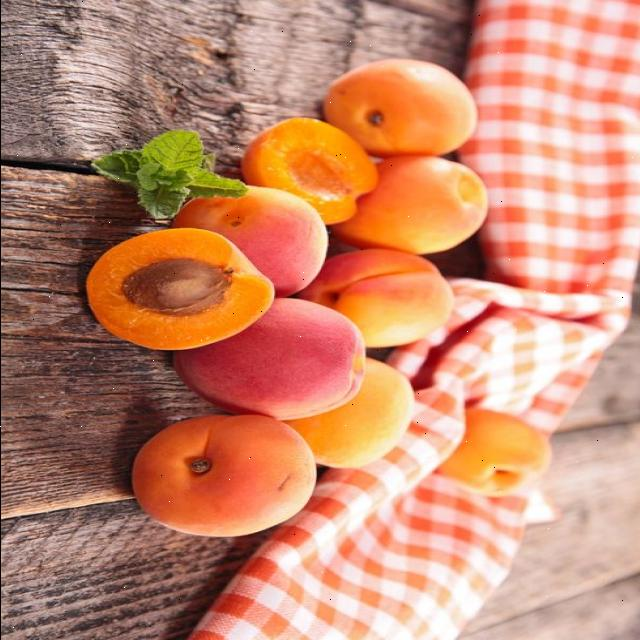Cekirdek: (123, 259, 232, 315)
Kayisi: (174, 299, 364, 421), (132, 416, 315, 536), (323, 60, 475, 158)
